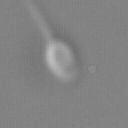normal: (20, 1, 55, 41)
